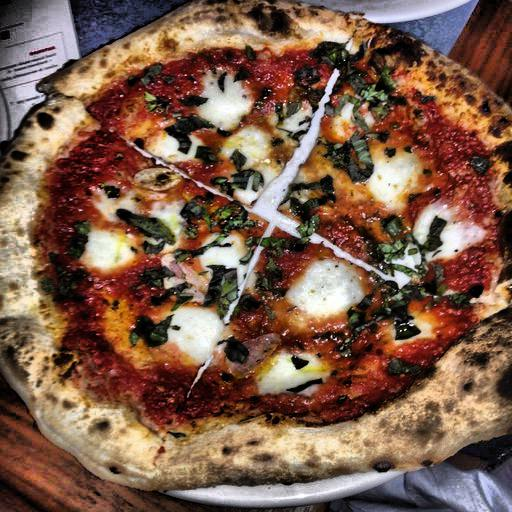pizza: (3, 13, 512, 486)
